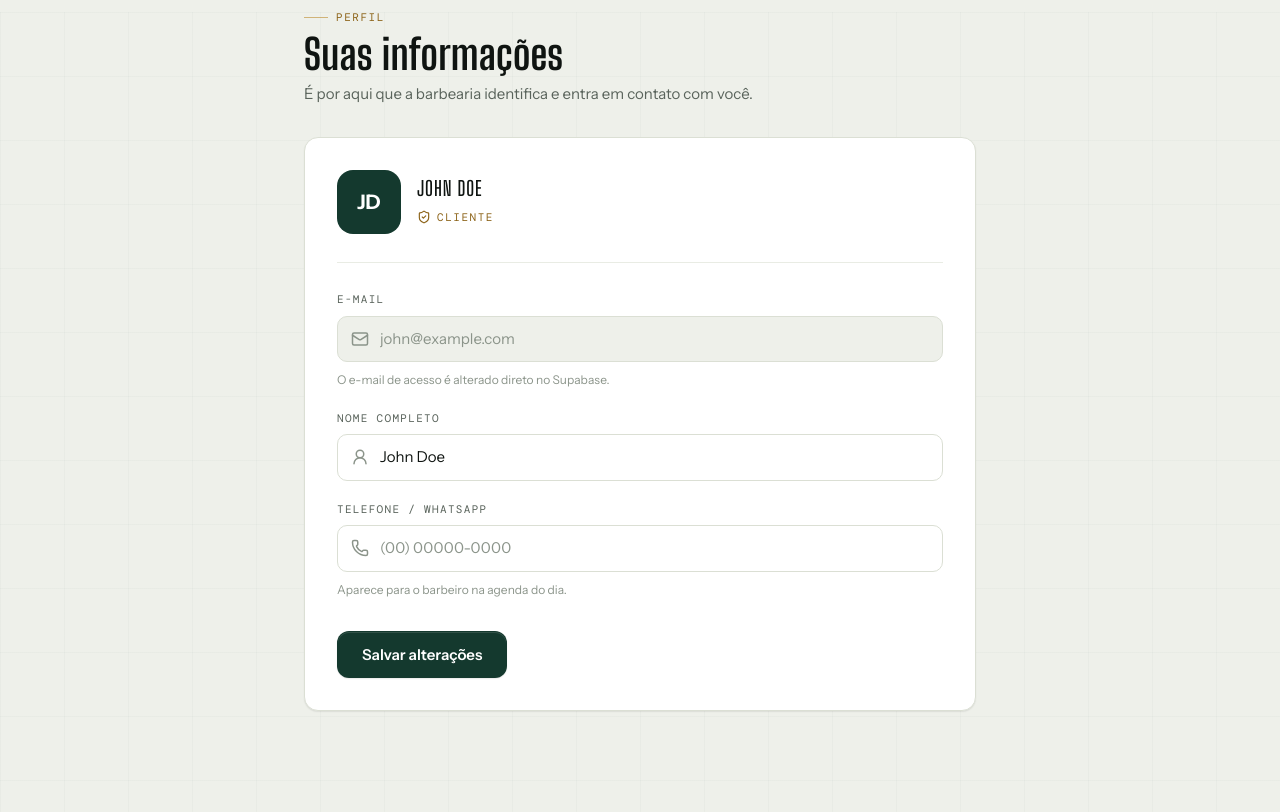
Test: ProfileSettings Phone Masking › applies the phone mask correctly to inputs
This screenshot has width=1280, height=812.
Type "11988887777" into the field with placeholder "(00) 00000-0000". click: (640, 548)
box: [337,525,943,572]
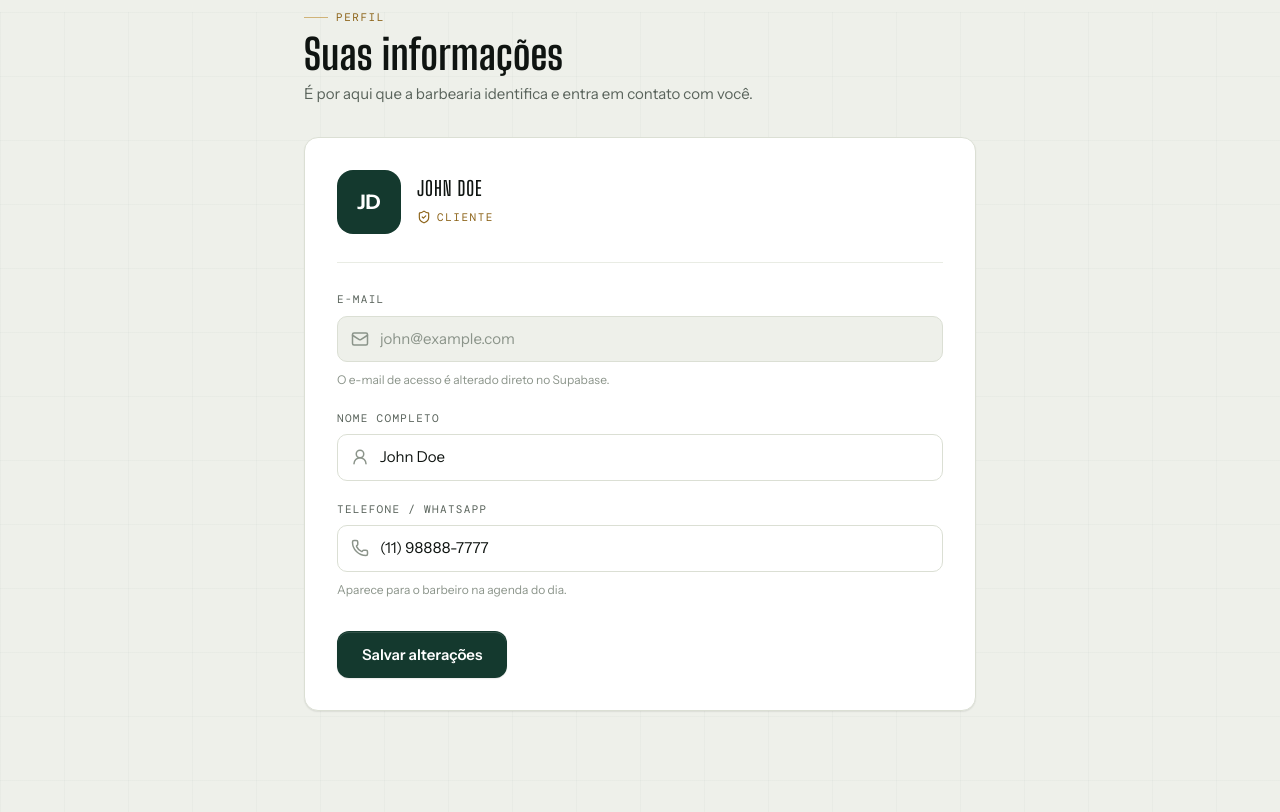
Check: the field with placeholder "(00) 00000-0000" holds "(11) 98888-7777"
Replace the text in the field with placeholder "(00) 00000-0000" with "1188887777". click: (640, 548)
box: [337,525,943,572]
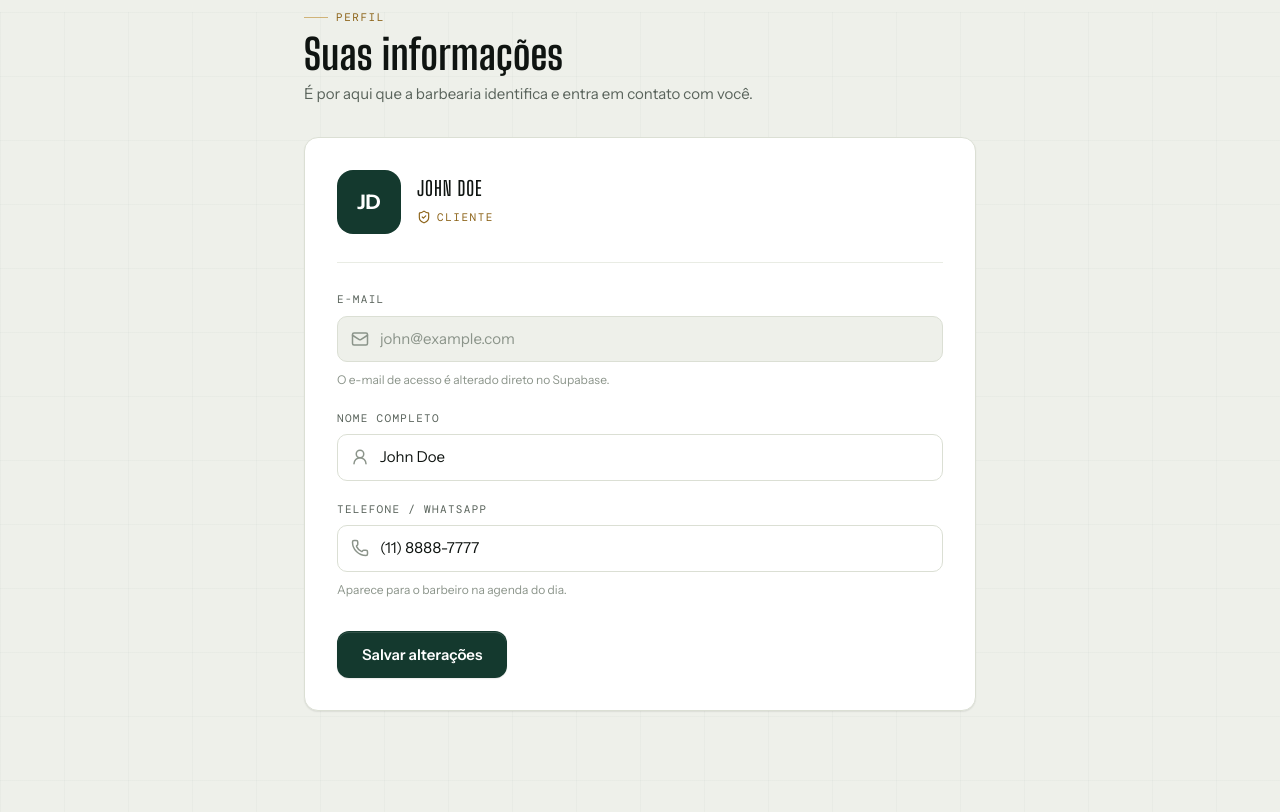
Check: the field with placeholder "(00) 00000-0000" holds "(11) 8888-7777"
Replace the text in the field with placeholder "(00) 00000-0000" with "a11b988c88d777e7". click: (640, 548)
box: [337,525,943,572]
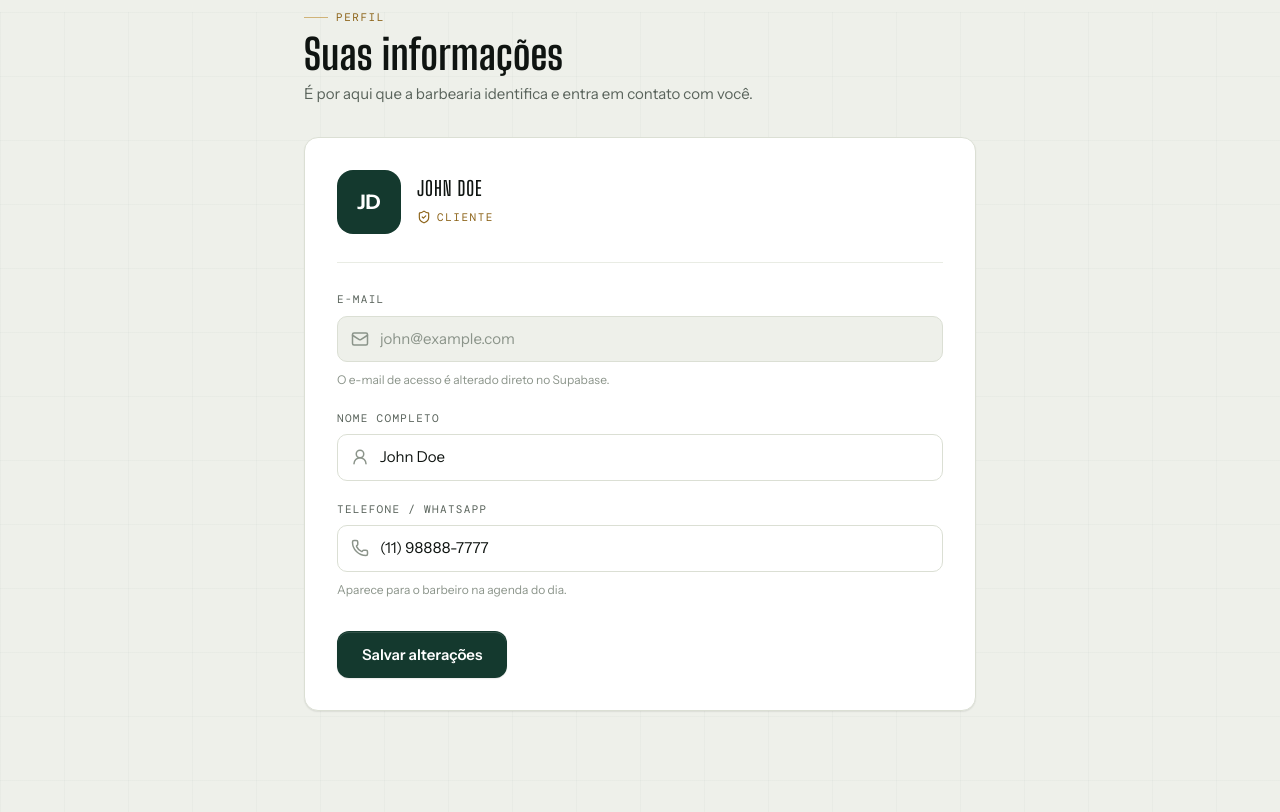
Check: the field with placeholder "(00) 00000-0000" holds "(11) 98888-7777", box [337,525,943,572]
